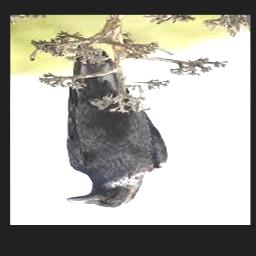Crow: (66, 43, 167, 208)
